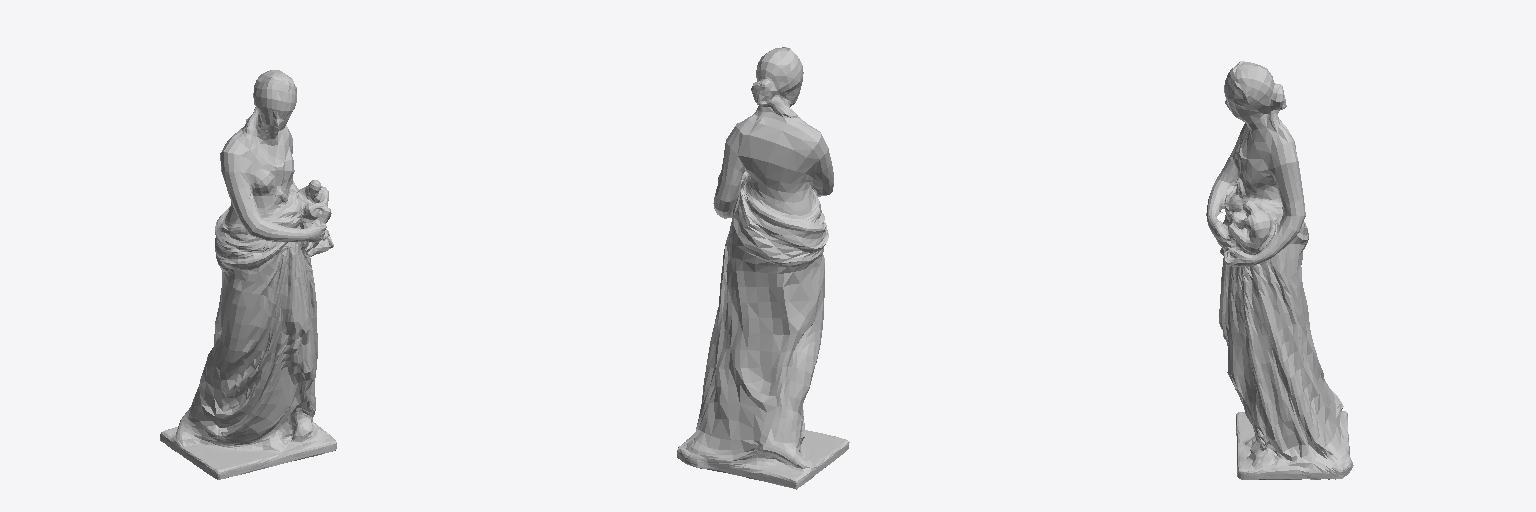
Rendered from DamerStatue.obj.
3 views of the same model, side by side, from view 1: azimuth 30°, elevation 25°; view 2: azimuth 150°, elevation 25°; view 3: azimuth 270°, elevation 25° (orthographic).
Visible parts, largest first — view 1: Retopo_Scaniverse.001_mesh.001; view 2: Retopo_Scaniverse.001_mesh.001; view 3: Retopo_Scaniverse.001_mesh.001.
Boxes of the visible parts, box(x1,y1,x2,y2) form: Retopo_Scaniverse.001_mesh.001: box(160, 70, 336, 479); Retopo_Scaniverse.001_mesh.001: box(677, 47, 849, 489); Retopo_Scaniverse.001_mesh.001: box(1206, 61, 1353, 479).
Size of the model in its own units: 0.6193 by 1.82 by 0.6278.